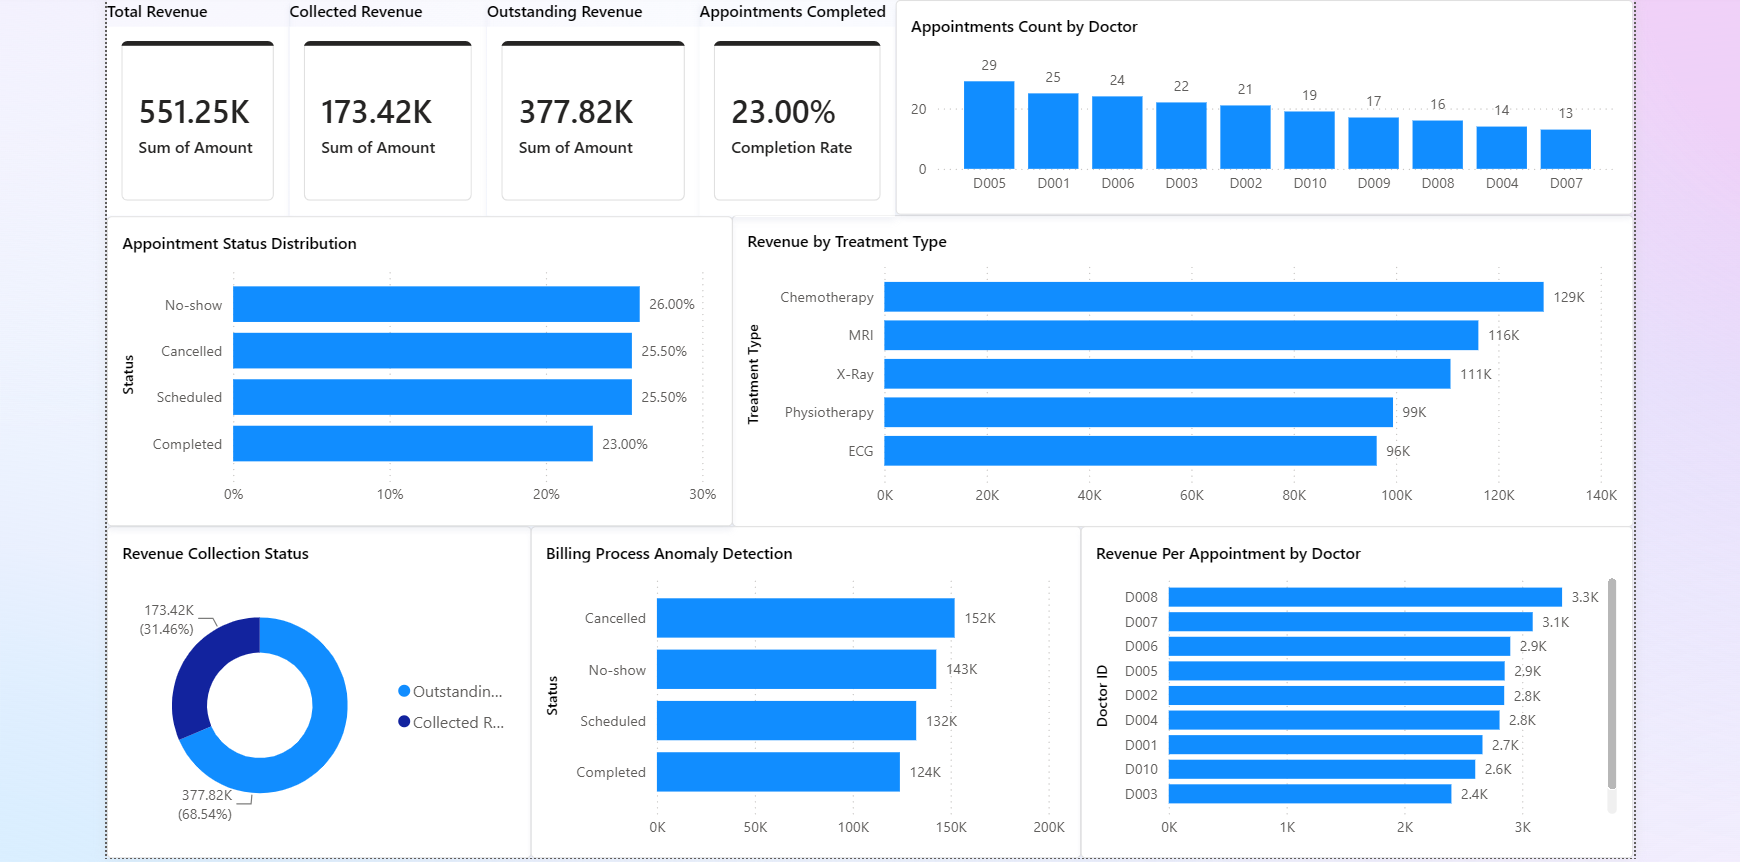

The dashboard page shown, as its layout file describes it:
{"tool":"powerbi","page":{"name":"Dashboard","canvas":[1280,720],"ordinal":0},"visuals":[{"type":"barChart","title":"Revenue by Treatment Type","fields":{"Category":["hospital_full_data.Treatment Type"],"Y":["Sum(hospital_full_data.Amount)"]},"box":[524.3,180,755.7,261.4],"z":0},{"type":"cardVisual","title":"Total Revenue","fields":{"Data":["Sum(hospital_full_data.Amount)"]},"box":[0,0,152.9,181.4],"z":1000},{"type":"cardVisual","title":"Collected Revenue","fields":{"Data":["Sum(hospital_full_data.Amount)"]},"box":[152.9,0,165.7,181.4],"z":2000},{"type":"cardVisual","title":"Outstanding Revenue","fields":{"Data":["Sum(hospital_full_data.Amount)"]},"box":[318.6,0,178.6,181.4],"z":3000},{"type":"cardVisual","title":"Appointments Completed","fields":{"Data":["hospital_full_data.Completion Rate"]},"box":[497.1,0,164.3,181.4],"z":4000},{"type":"donutChart","title":"Revenue Collection Status","fields":{"Y":["Sum(hospital_full_data.Amount)"],"Category":["hospital_full_data.Revenue Category"]},"box":[0,441.4,355.7,278.6],"z":5000},{"type":"clusteredBarChart","title":"Billing Process Anomaly Detection","fields":{"Category":["hospital_full_data.Status"],"Y":["Sum(hospital_full_data.Amount)"]},"box":[355.7,441.4,461.4,278.6],"z":6000},{"type":"clusteredBarChart","title":"Revenue Per Appointment by Doctor","fields":{"Y":["hospital_full_data.Revenue Per Appointment"],"Category":["doctors.Doctor ID"]},"box":[817.1,441.4,462.9,278.6],"z":7000},{"type":"clusteredColumnChart","title":"Appointments Count by Doctor","fields":{"Y":["hospital_full_data.Appointment Count"],"Category":["doctors.Doctor ID"]},"box":[661.4,0,618.6,180],"z":8000},{"type":"clusteredBarChart","title":"Appointment Status Distribution","fields":{"Category":["hospital_full_data.Status"],"Y":["hospital_full_data.Appointment Status %"]},"box":[0,181.5,524.4,259.8],"z":9000}]}

Visuals, with their boxes on the page's 1280x720 design canvas (x1, y1, x2, y2). These are canvas units, not pixel positions in the 1740x862 screenshot, which may show the page scaled, cropped or inside an application window:
"Revenue by Treatment Type" barChart: locate(524, 180, 1280, 441)
"Total Revenue" cardVisual: locate(0, 0, 153, 181)
"Collected Revenue" cardVisual: locate(153, 0, 319, 181)
"Outstanding Revenue" cardVisual: locate(319, 0, 497, 181)
"Appointments Completed" cardVisual: locate(497, 0, 661, 181)
"Revenue Collection Status" donutChart: locate(0, 441, 356, 720)
"Billing Process Anomaly Detection" clusteredBarChart: locate(356, 441, 817, 720)
"Revenue Per Appointment by Doctor" clusteredBarChart: locate(817, 441, 1280, 720)
"Appointments Count by Doctor" clusteredColumnChart: locate(661, 0, 1280, 180)
"Appointment Status Distribution" clusteredBarChart: locate(0, 182, 524, 441)
